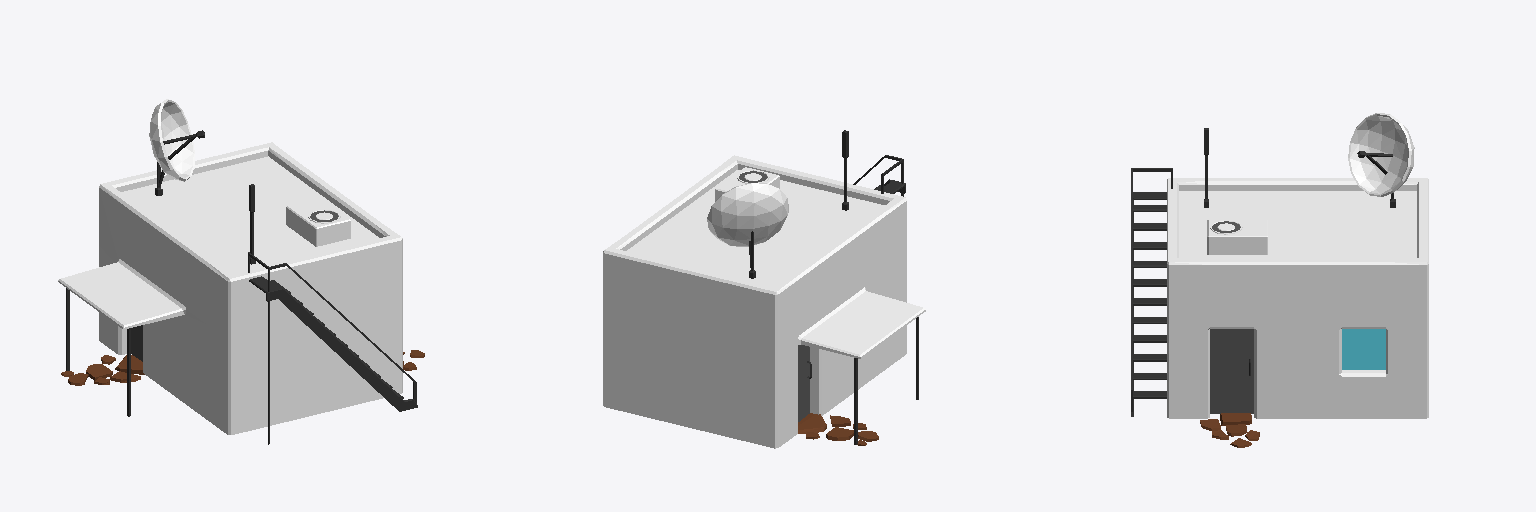
The model's file is PuestoControl.obj.
3 renders of one model, left to right at view 1: azimuth 30°, elevation 25°; view 2: azimuth 150°, elevation 25°; view 3: azimuth 270°, elevation 25°, orthographic.
Visible parts, largest first — view 1: Building01_Mesh; view 2: Building01_Mesh; view 3: Building01_Mesh.
Boxes of the visible parts, x1=… form: Building01_Mesh: x1=58, y1=99, x2=424, y2=444; Building01_Mesh: x1=603, y1=130, x2=925, y2=448; Building01_Mesh: x1=1131, y1=113, x2=1428, y2=447.
Size of the model in its own units: 5.27 by 4.17 by 4.6.